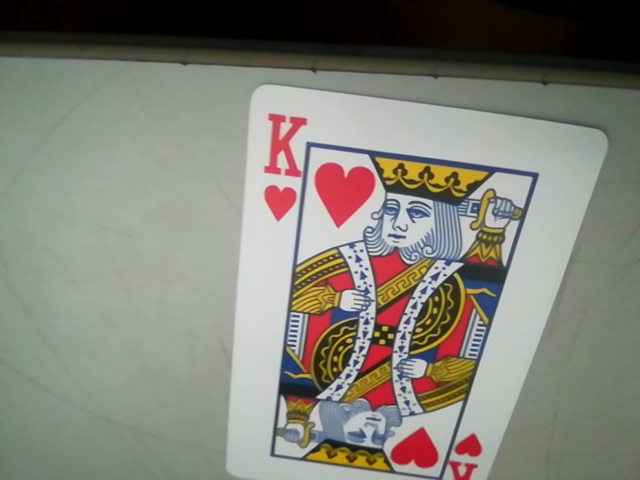hx k: (265, 114, 306, 221)
